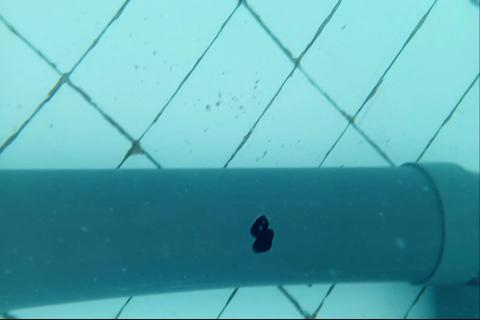kebocoran: (249, 212, 275, 254)
